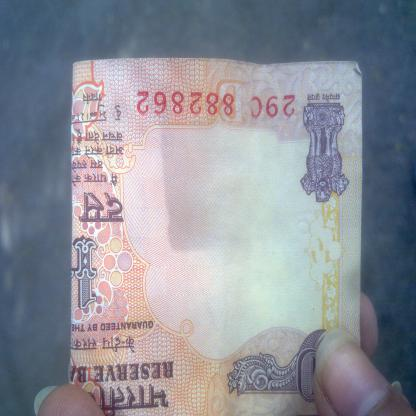Old10Front: (69, 55, 365, 415)
